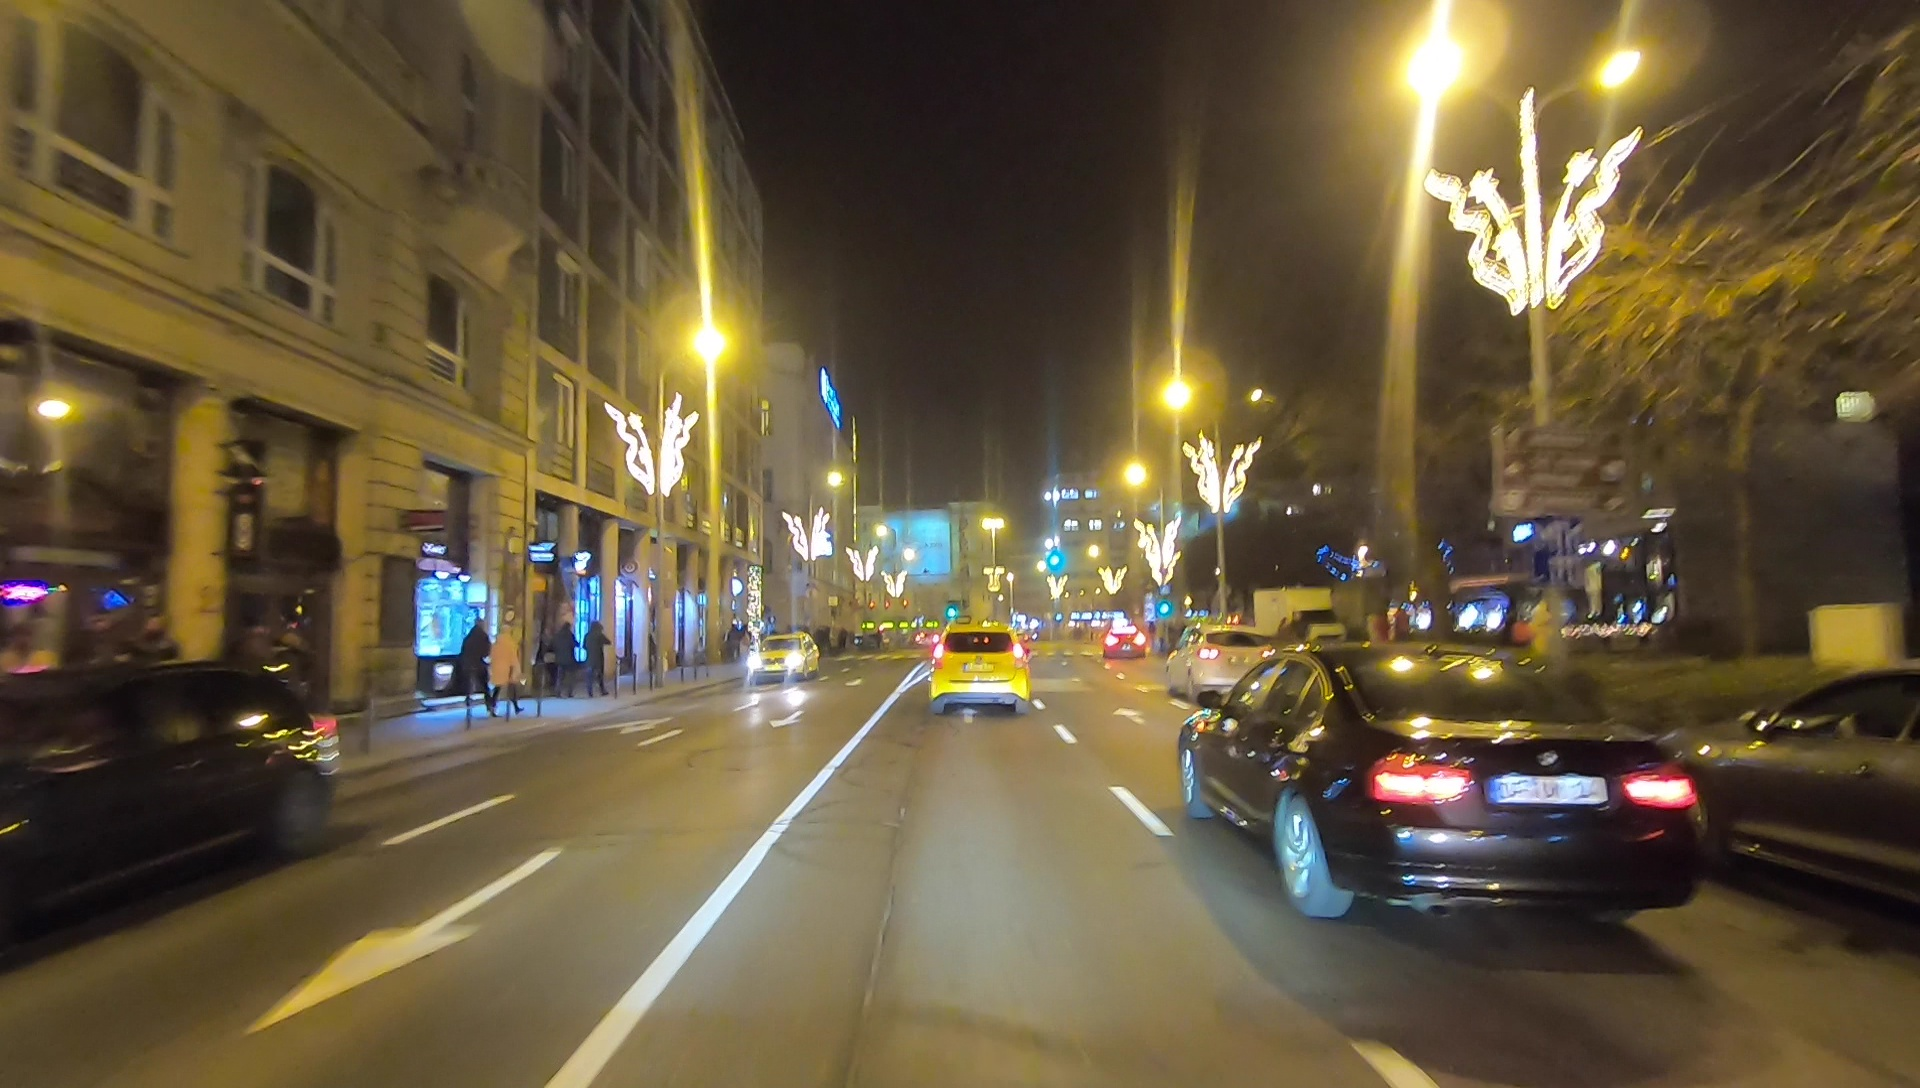person: (489, 626, 528, 721), (462, 621, 489, 724)
